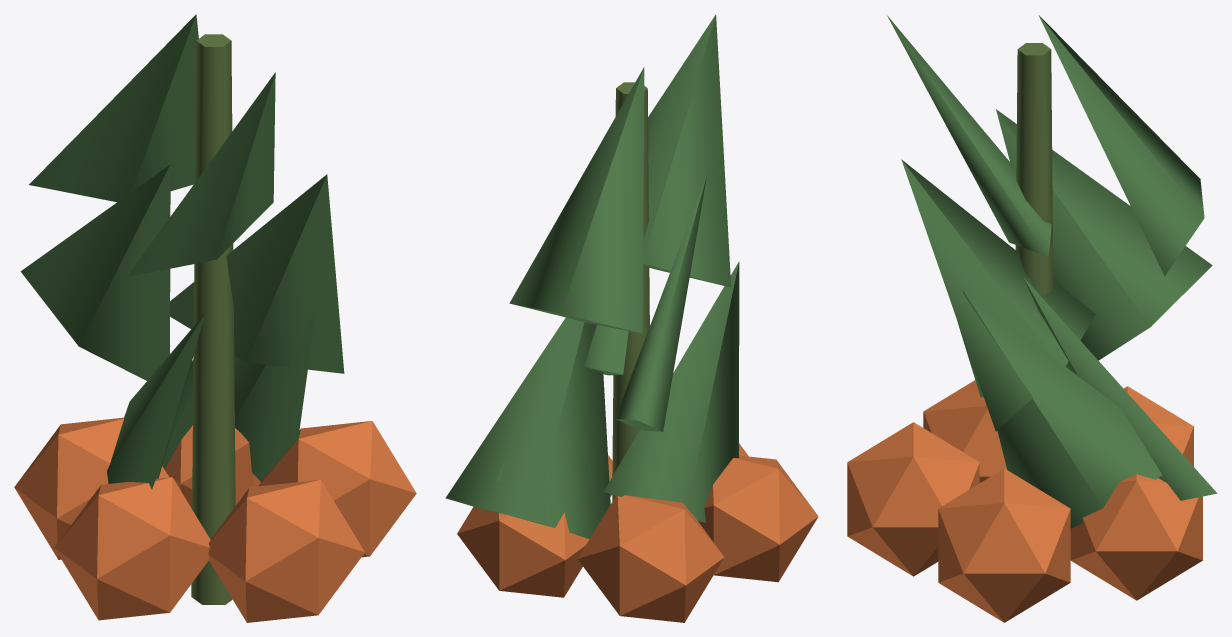
The model's file is crop-carrot-stage-4-harvest-ready.source.glb.
The picture shows the model from 3 angles, left to right: view 1: azimuth 30°, elevation 25°; view 2: azimuth 150°, elevation 25°; view 3: azimuth 270°, elevation 25°; orthographic projection. The views are drawn at different scales.
Visible parts, largest first — view 1: leaf-5, leaf-2, main-stem, fruit-2, fruit-3, leaf-6, leaf-3, fruit-1, fruit-4, leaf-1, leaf-4, fruit-5 (+1 smaller); view 2: leaf-7, leaf-6, leaf-3, leaf-4, fruit-4, fruit-3, fruit-5, leaf-5, main-stem, leaf-2; view 3: leaf-1, leaf-5, leaf-2, fruit-1, fruit-2, leaf-6, fruit-5, leaf-3, main-stem, leaf-7, fruit-3, fruit-4.
Boxes of the visible parts, x1=… form: leaf-5: x1=20, y1=164, x2=170, y2=381; leaf-2: x1=170, y1=174, x2=344, y2=373; main-stem: x1=191, y1=34, x2=235, y2=604; fruit-2: x1=208, y1=479, x2=364, y2=622; fruit-3: x1=54, y1=477, x2=210, y2=620; leaf-6: x1=29, y1=14, x2=198, y2=202; leaf-3: x1=127, y1=72, x2=275, y2=276; fruit-1: x1=258, y1=421, x2=416, y2=557; fruit-4: x1=14, y1=417, x2=169, y2=559; leaf-1: x1=234, y1=307, x2=316, y2=481; leaf-4: x1=107, y1=313, x2=205, y2=489; fruit-5: x1=164, y1=425, x2=260, y2=508; leaf-7: x1=445, y1=317, x2=610, y2=539; leaf-6: x1=509, y1=67, x2=644, y2=333; leaf-3: x1=643, y1=14, x2=731, y2=287; leaf-4: x1=603, y1=261, x2=739, y2=522; fruit-4: x1=578, y1=495, x2=724, y2=622; fruit-3: x1=698, y1=455, x2=818, y2=582; fruit-5: x1=457, y1=506, x2=589, y2=597; leaf-5: x1=615, y1=174, x2=707, y2=431; main-stem: x1=612, y1=82, x2=649, y2=501; leaf-2: x1=584, y1=325, x2=628, y2=375; leaf-1: x1=962, y1=289, x2=1186, y2=528; leaf-5: x1=996, y1=109, x2=1212, y2=360; leaf-2: x1=901, y1=159, x2=1095, y2=431; fruit-1: x1=938, y1=468, x2=1070, y2=622; fruit-2: x1=847, y1=422, x2=979, y2=576; leaf-6: x1=1038, y1=15, x2=1204, y2=276; fruit-5: x1=1070, y1=474, x2=1202, y2=600; leaf-3: x1=886, y1=14, x2=1051, y2=256; main-stem: x1=1015, y1=43, x2=1053, y2=295; leaf-7: x1=1023, y1=277, x2=1217, y2=500; fruit-3: x1=923, y1=380, x2=1006, y2=482; fruit-4: x1=1123, y1=386, x2=1193, y2=466.
Bounding box in the file's own units: 0.4189 × 0.7156 × 0.4281.
